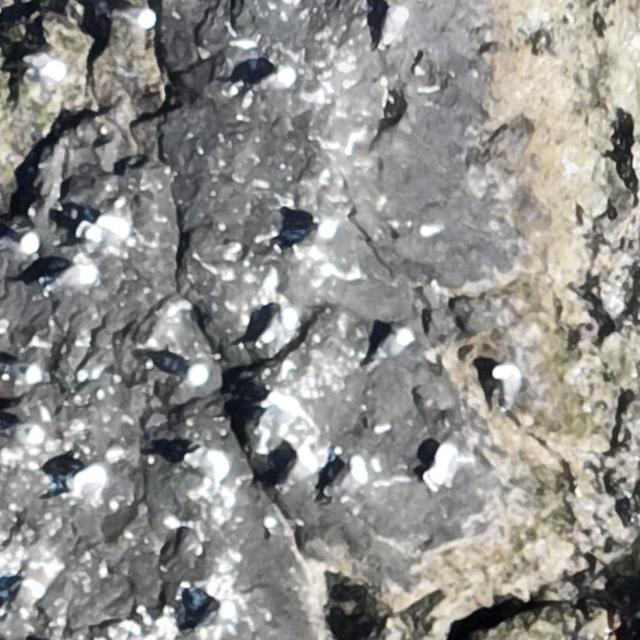umineko: (368, 328, 417, 368), (297, 214, 345, 254), (422, 441, 462, 485), (85, 228, 136, 258), (54, 262, 98, 296), (260, 309, 299, 346), (336, 456, 372, 496), (6, 222, 39, 264), (381, 4, 410, 51), (175, 364, 207, 405), (254, 66, 296, 96), (497, 367, 518, 406), (119, 8, 155, 29)
